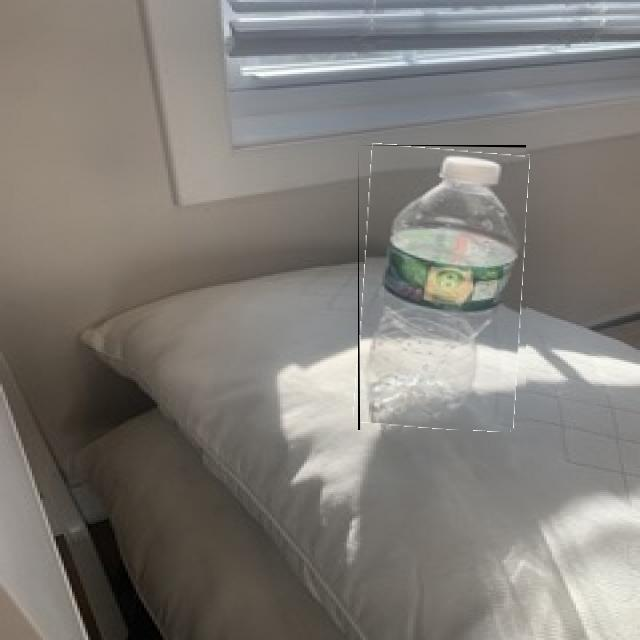water_bottle: (358, 145, 526, 430)
